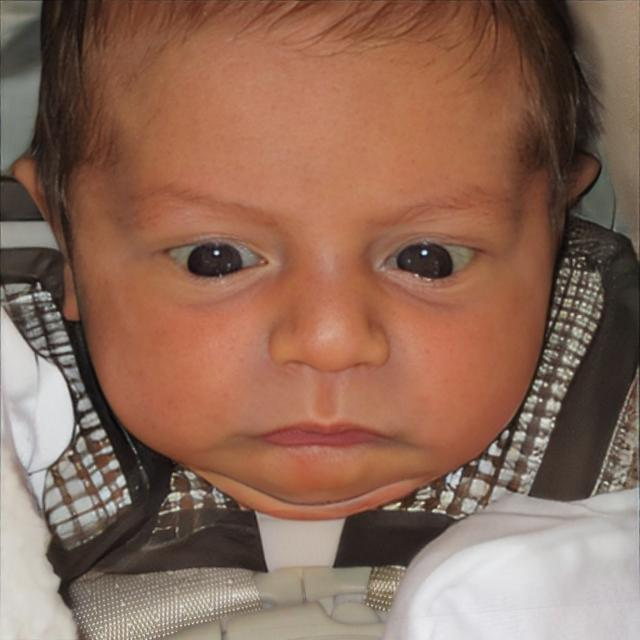fear: (64, 0, 576, 508)
